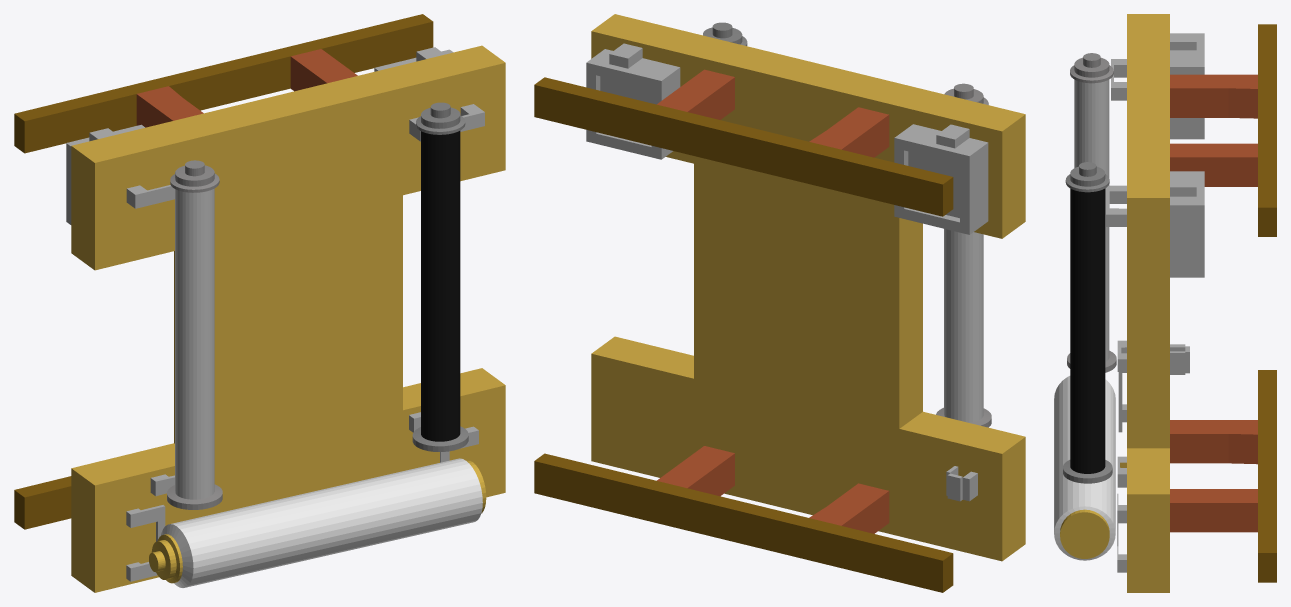
The model's file is neutron_spectrometer.gltf.
The picture shows the model from 3 angles, left to right: view 1: azimuth 30°, elevation 25°; view 2: azimuth 150°, elevation 25°; view 3: azimuth 270°, elevation 25°; orthographic projection. The views are drawn at different scales.
Visible parts, largest first — view 1: Cube.002; view 2: Cube.002; view 3: Cube.002.
Part boxes in pixels (box(x1,y1,x2,y2)): Cube.002: box(14, 14, 505, 592); Cube.002: box(534, 14, 1025, 592); Cube.002: box(1054, 14, 1276, 592).
Bounding box in the file's own units: 3.86 × 3.86 × 1.98.
